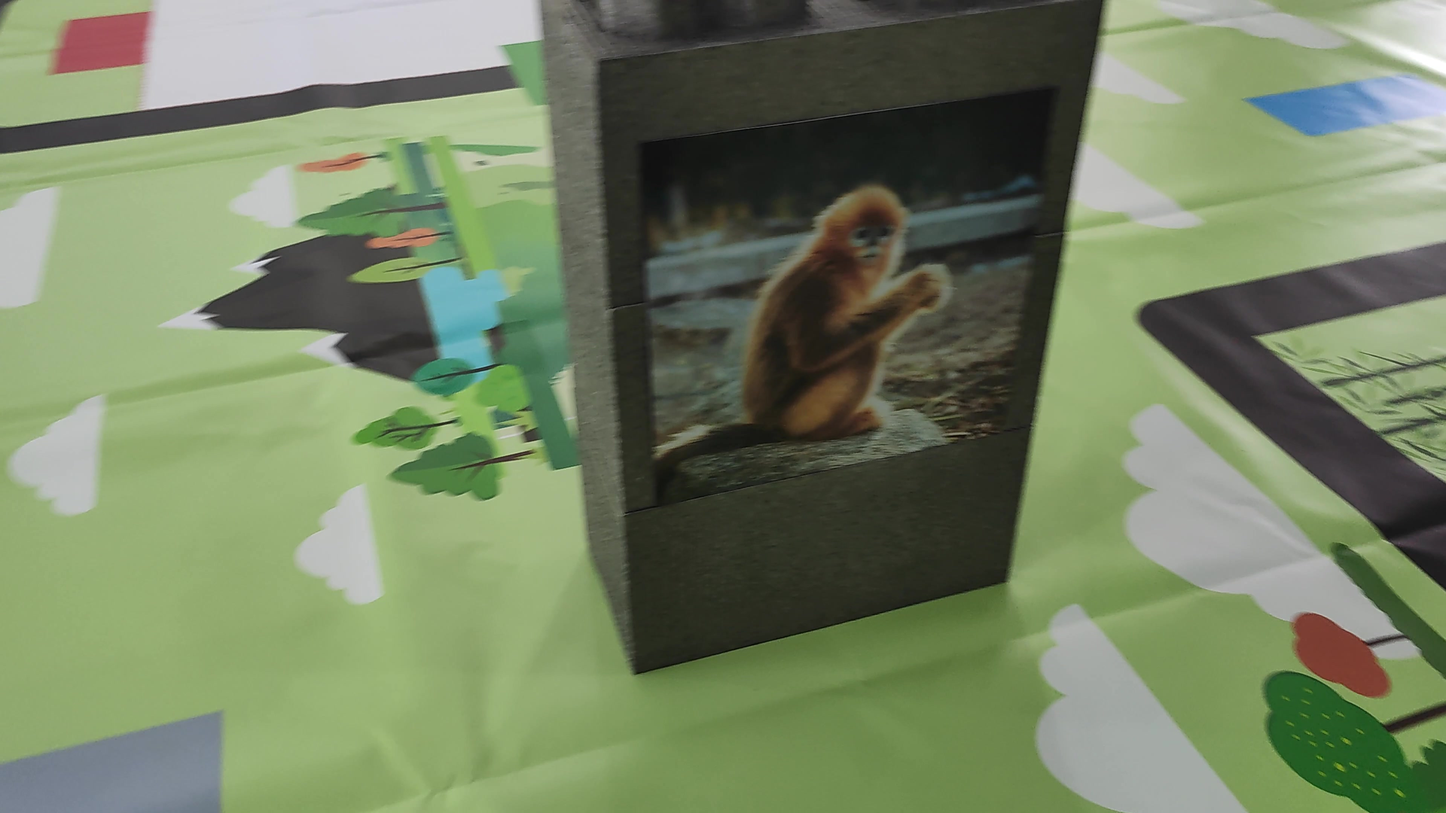monkey: (711, 175, 983, 451)
